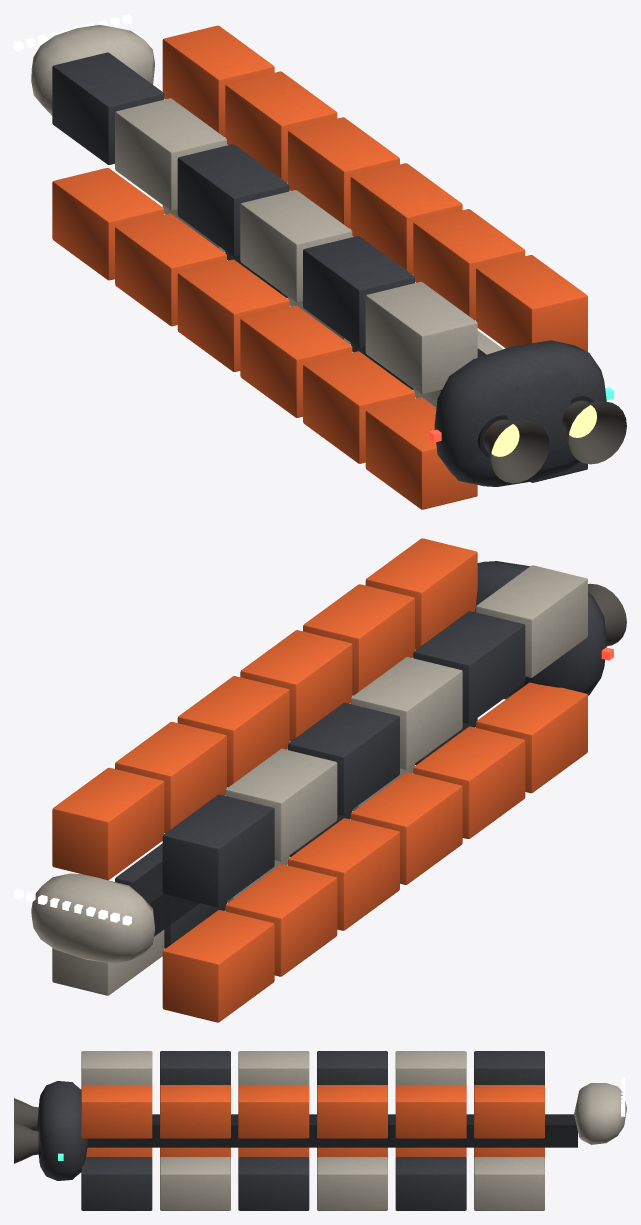
File: game-freighter.glb
3 views of the same model, one above another, from view 1: azimuth 30°, elevation 25°; view 2: azimuth 150°, elevation 25°; view 3: azimuth 270°, elevation 25° (orthographic). The views are drawn at different scales.
Visible parts, largest first — view 1: freighter; view 2: freighter; view 3: freighter.
Boxes of the visible parts, bbox=[...] form: freighter: bbox=[14, 14, 626, 509]; freighter: bbox=[14, 538, 626, 1022]; freighter: bbox=[14, 1051, 626, 1210].
Bounding box in the file's own units: 20.9 × 19.4 × 98.33.
Materials: 6 (2 with a texture image).
